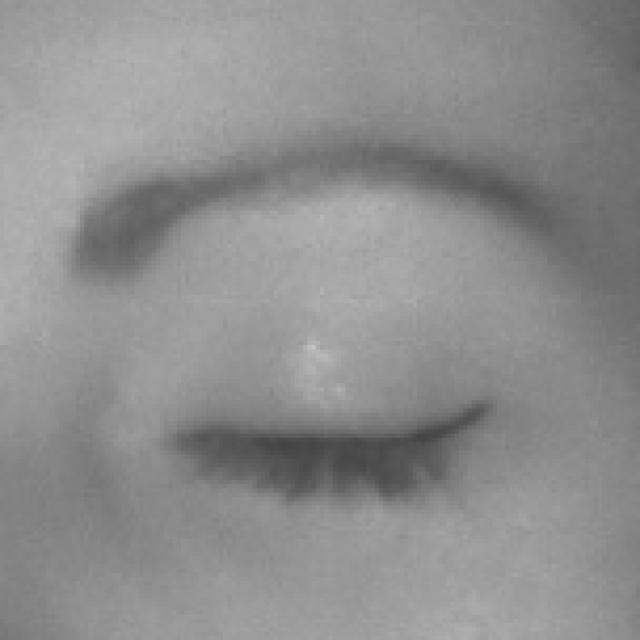close: (42, 95, 620, 619)
